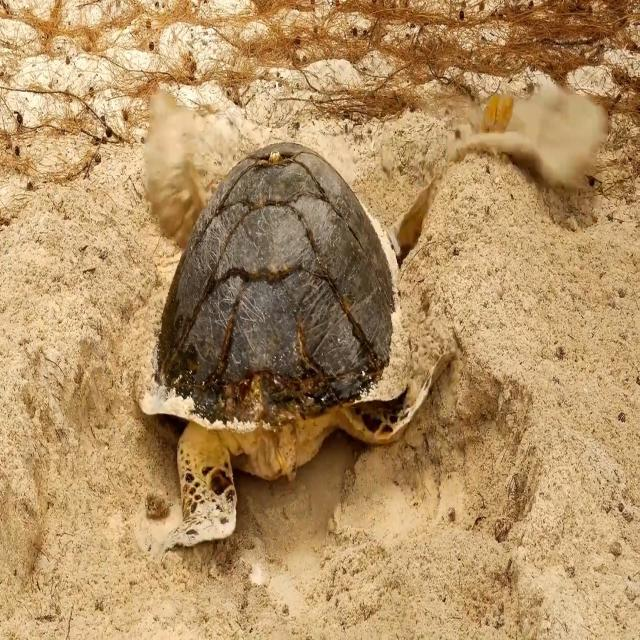Hawksbill-Sea-Turtle -Endangered-: (136, 141, 442, 528)
